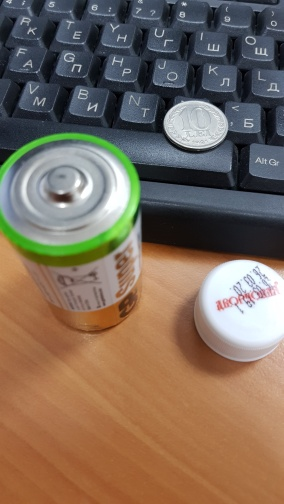coin: (162, 100, 230, 153)
